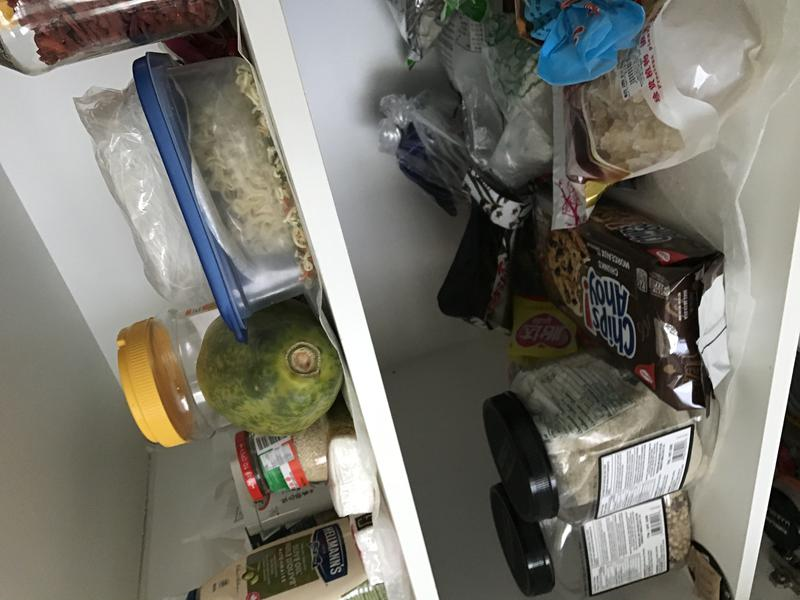papaya: (188, 291, 354, 442)
